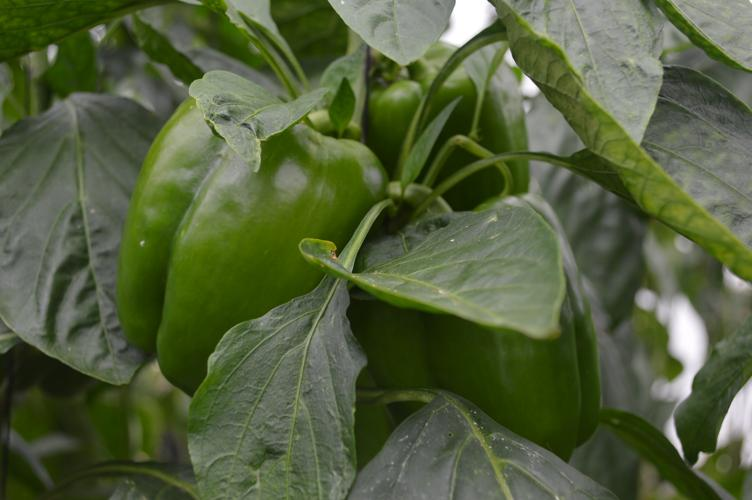BellPepper: (120, 91, 385, 376), (356, 196, 598, 461), (376, 66, 527, 198)
